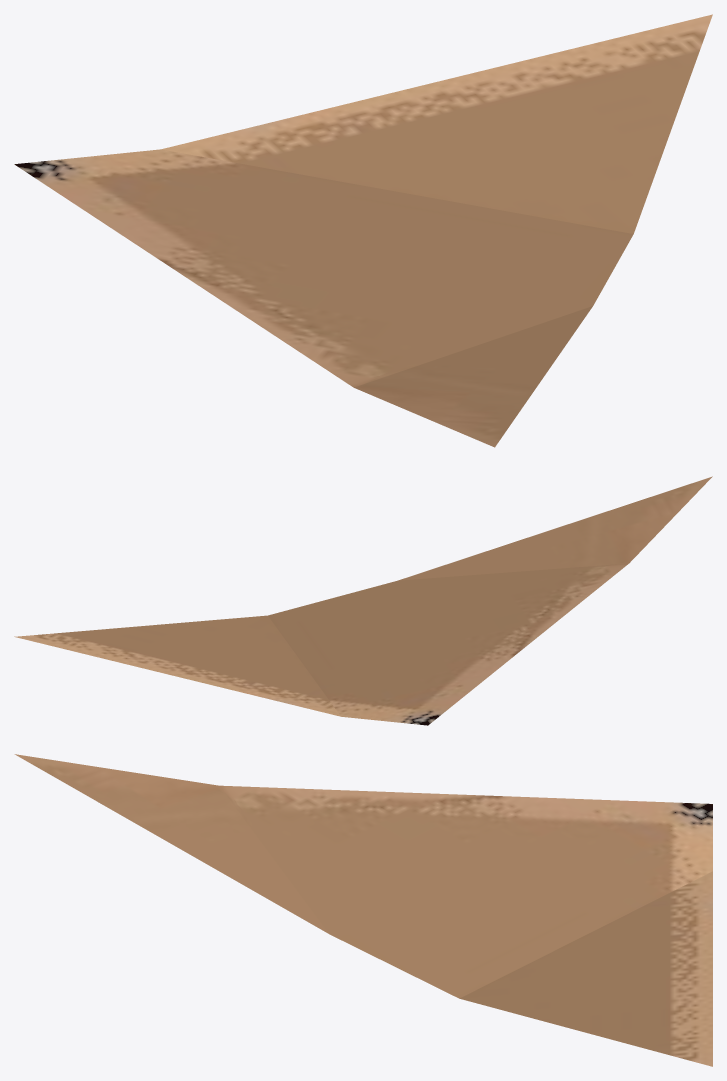
3 views of the same model, one above another, from view 1: azimuth 30°, elevation 25°; view 2: azimuth 150°, elevation 25°; view 3: azimuth 270°, elevation 25° (orthographic). The views are drawn at different scales.
Size of the model in its own units: 0.4589 by 0.0748 by 0.5468.
1 material, 1 textured.
